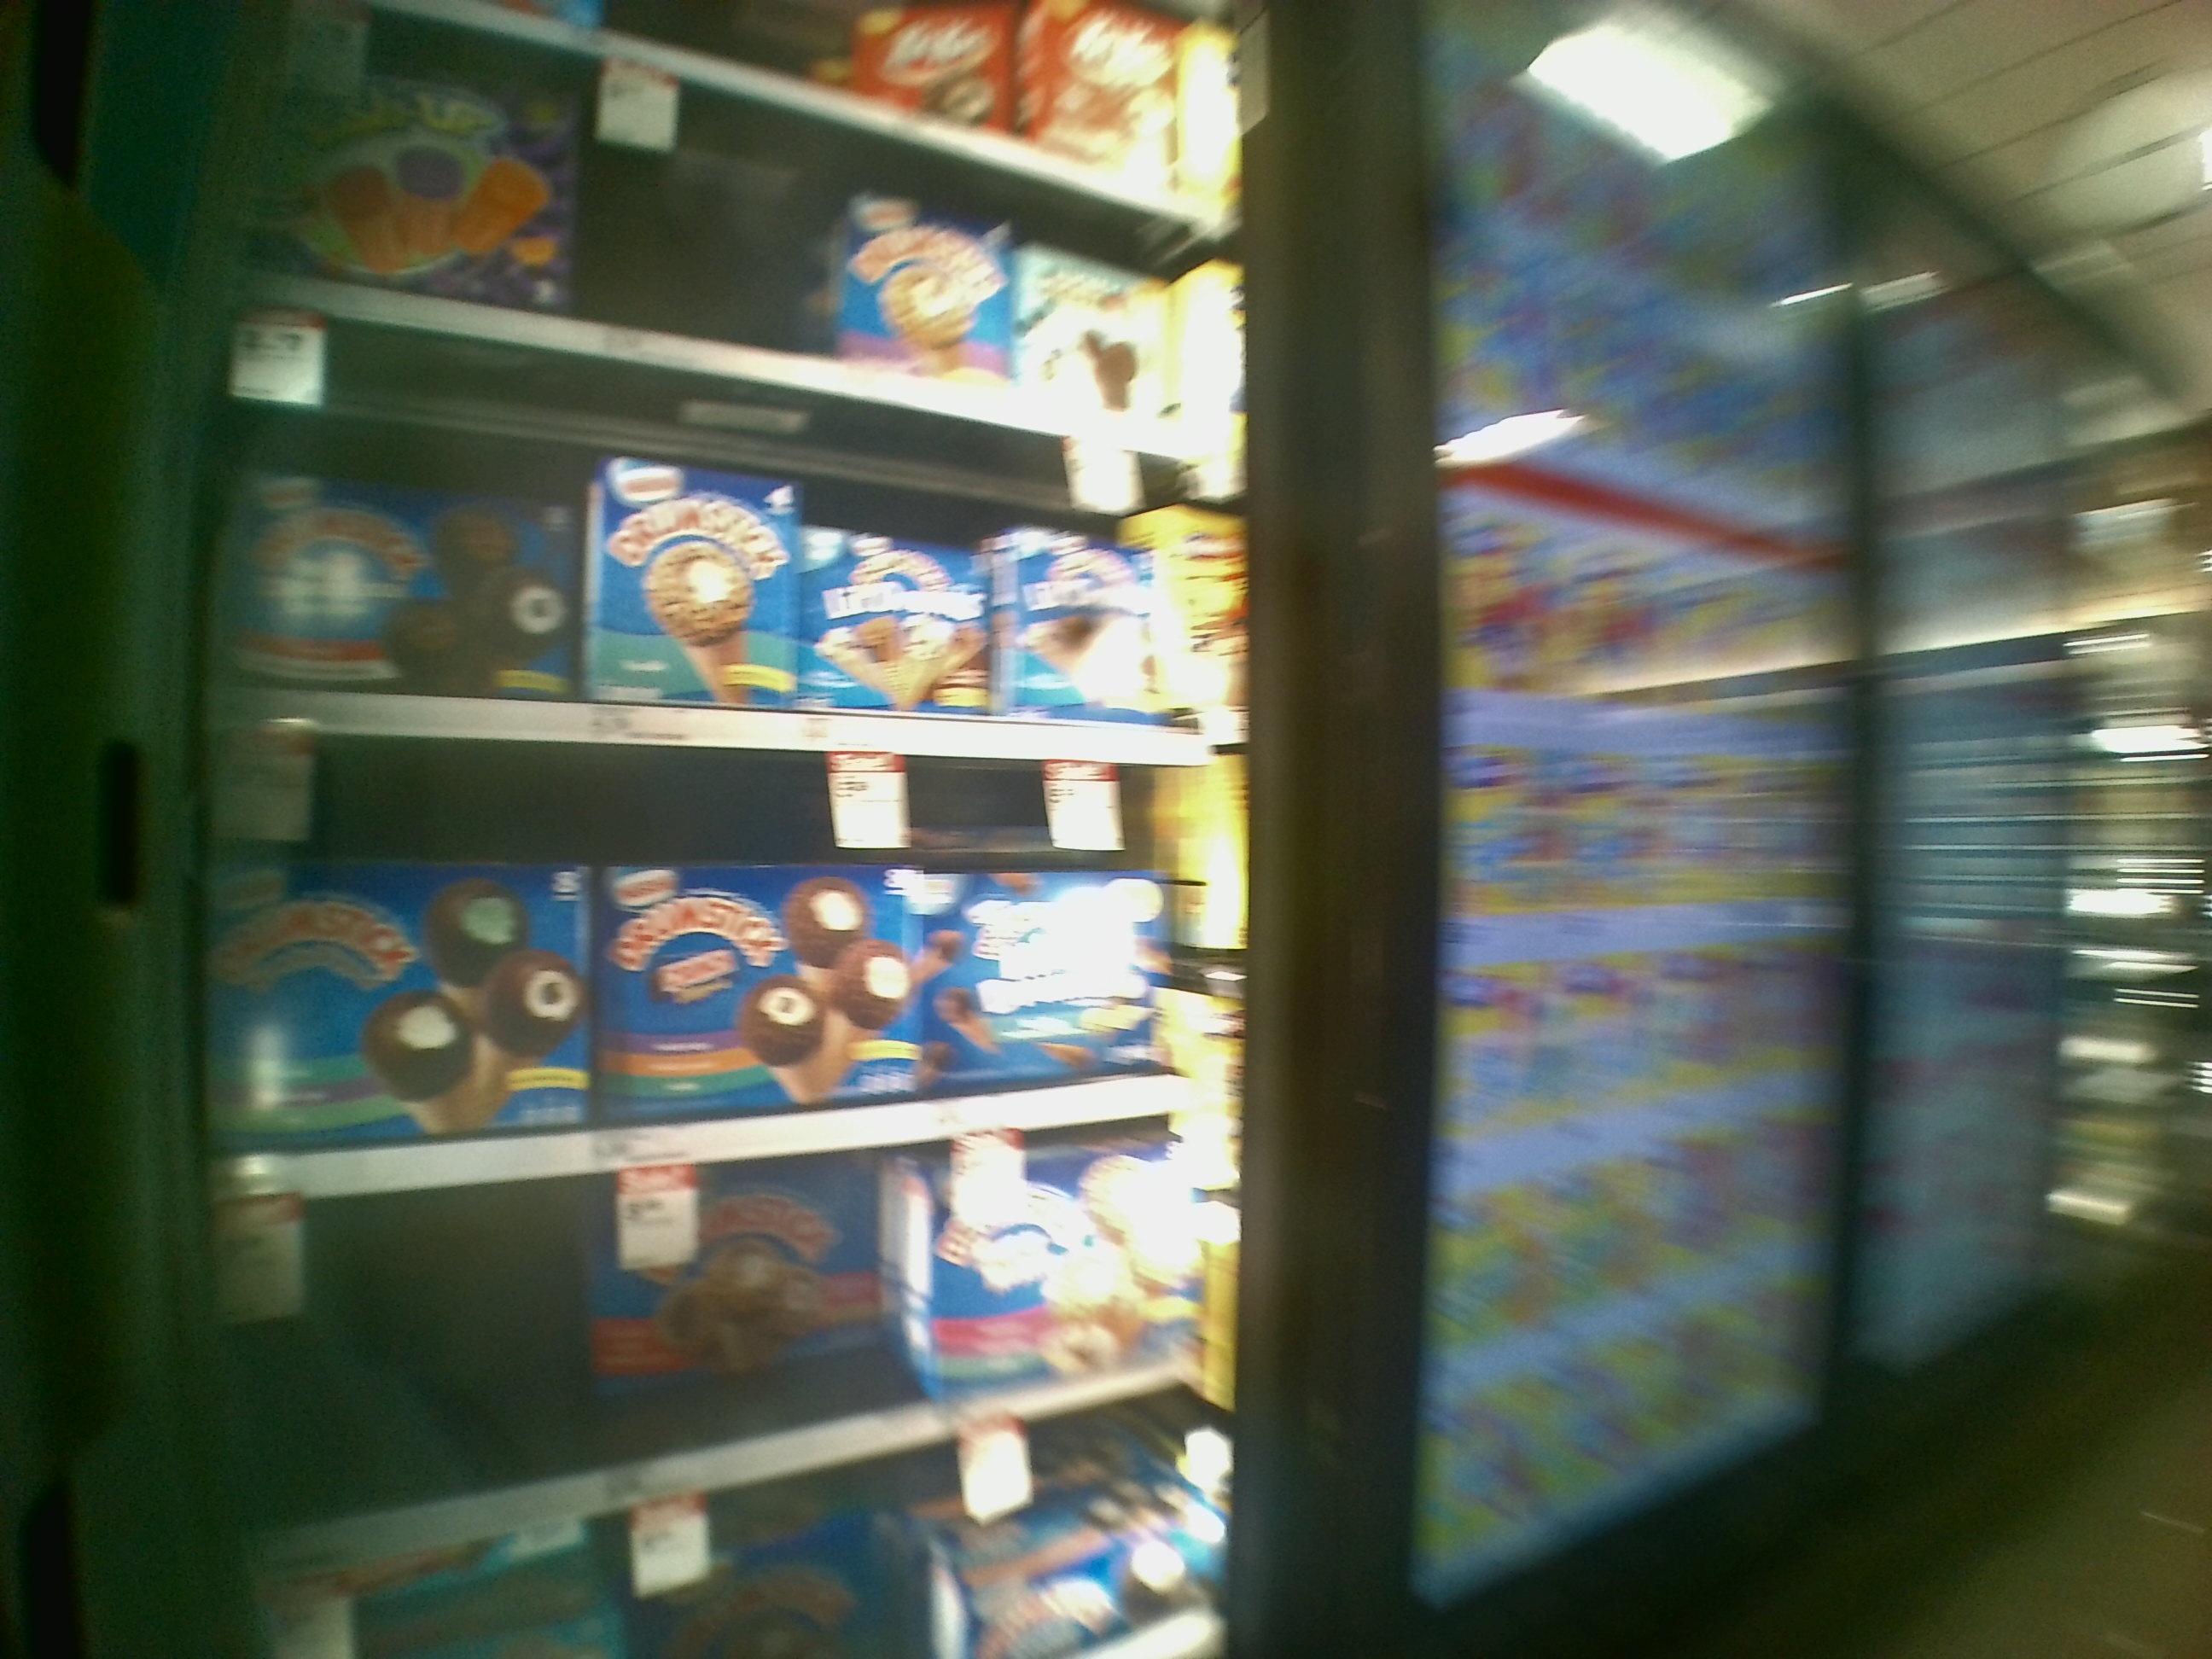shelf: (190, 753, 1254, 1195), (200, 312, 1242, 756)
